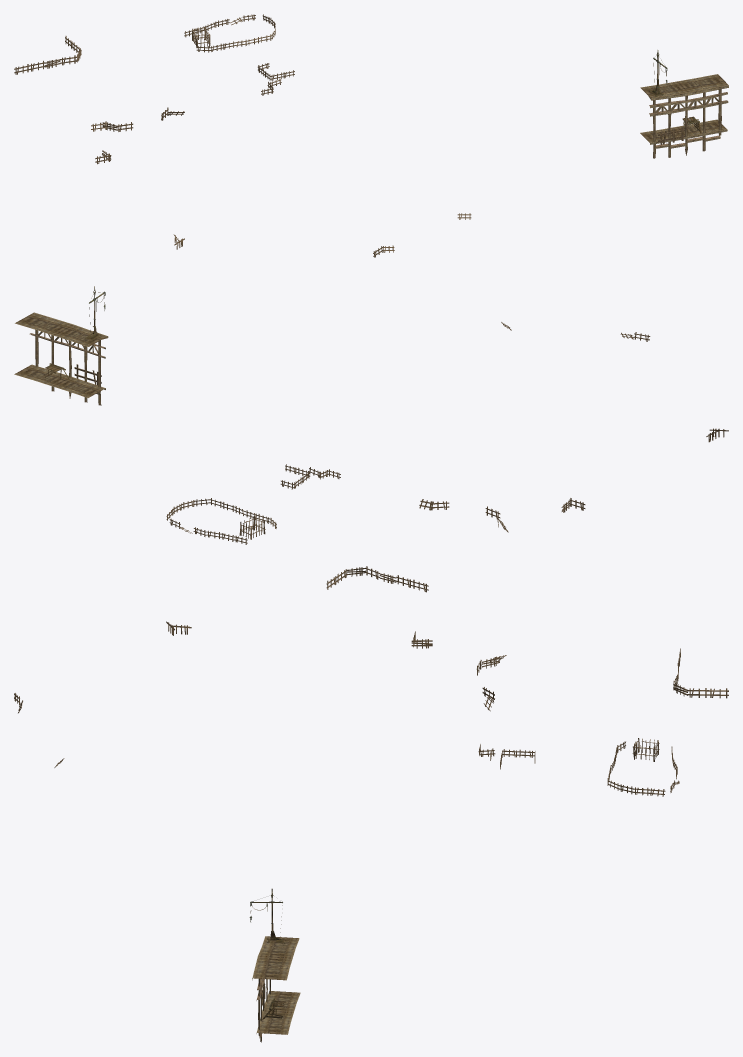
Rendered from S_Build_West074_A.FBX.
3 views of the same model, one above another, from view 1: azimuth 30°, elevation 25°; view 2: azimuth 150°, elevation 25°; view 3: azimuth 270°, elevation 25° (orthographic). The views are drawn at different scales.
Visible parts, largest first — view 1: S_Build_West046_001; view 2: S_Build_West046_001; view 3: S_Build_West046_001.
Part boxes in pixels (box(x1,y1,x2,y2)): S_Build_West046_001: box(640, 74, 728, 158); S_Build_West046_001: box(14, 312, 108, 405); S_Build_West046_001: box(252, 936, 300, 1042).
Bounding box in the file's own units: 17006 × 3027 × 14878.
